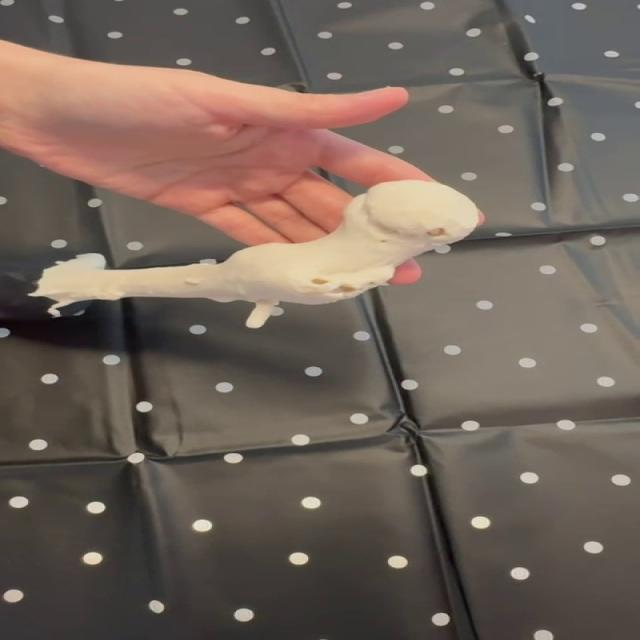bones: (0, 180, 478, 328)
